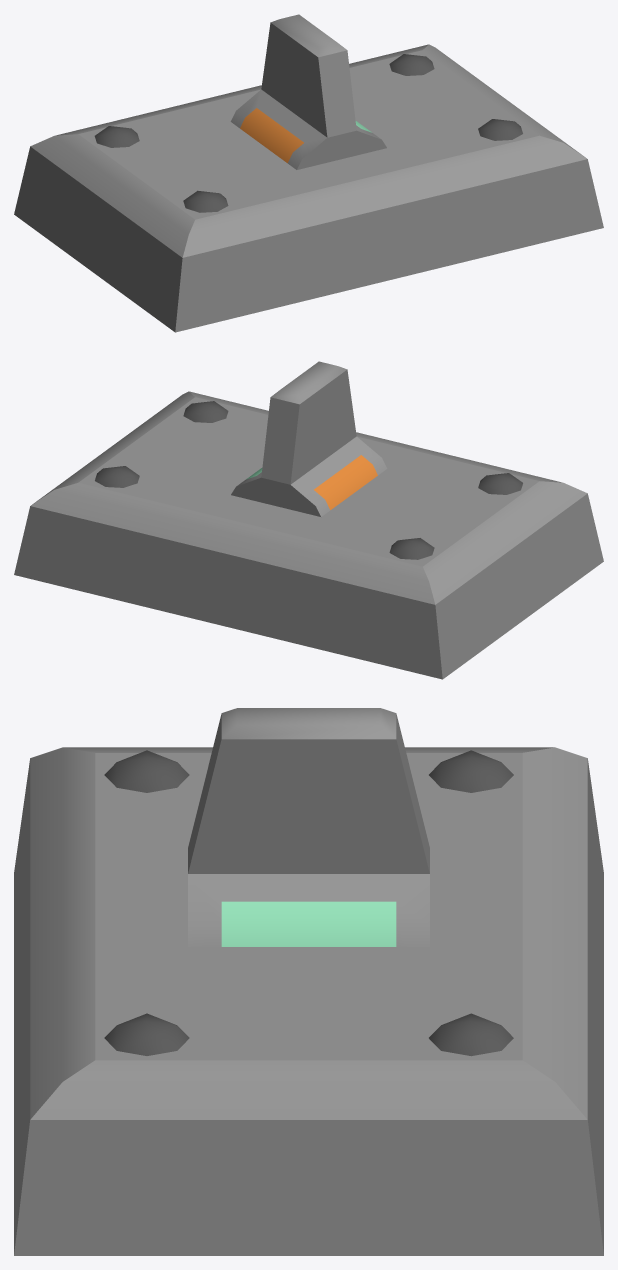
Rendered from LightSwitch.FBX.
3 renders of one model, top to bottom at view 1: azimuth 30°, elevation 25°; view 2: azimuth 150°, elevation 25°; view 3: azimuth 270°, elevation 25°, orthographic. The views are drawn at different scales.
Visible parts, largest first — view 1: Base, Switch; view 2: Base, Switch; view 3: Base, Switch.
Boxes of the visible parts, left/top/right/bottom form: Base: left=14, top=44, right=603, bottom=332; Switch: left=230, top=14, right=386, bottom=169; Base: left=14, top=391, right=603, bottom=679; Switch: left=231, top=361, right=387, bottom=516; Base: left=14, top=747, right=603, bottom=1255; Switch: left=188, top=708, right=429, bottom=946.
Size of the model in its own units: 148 by 62.66 by 96.36.
